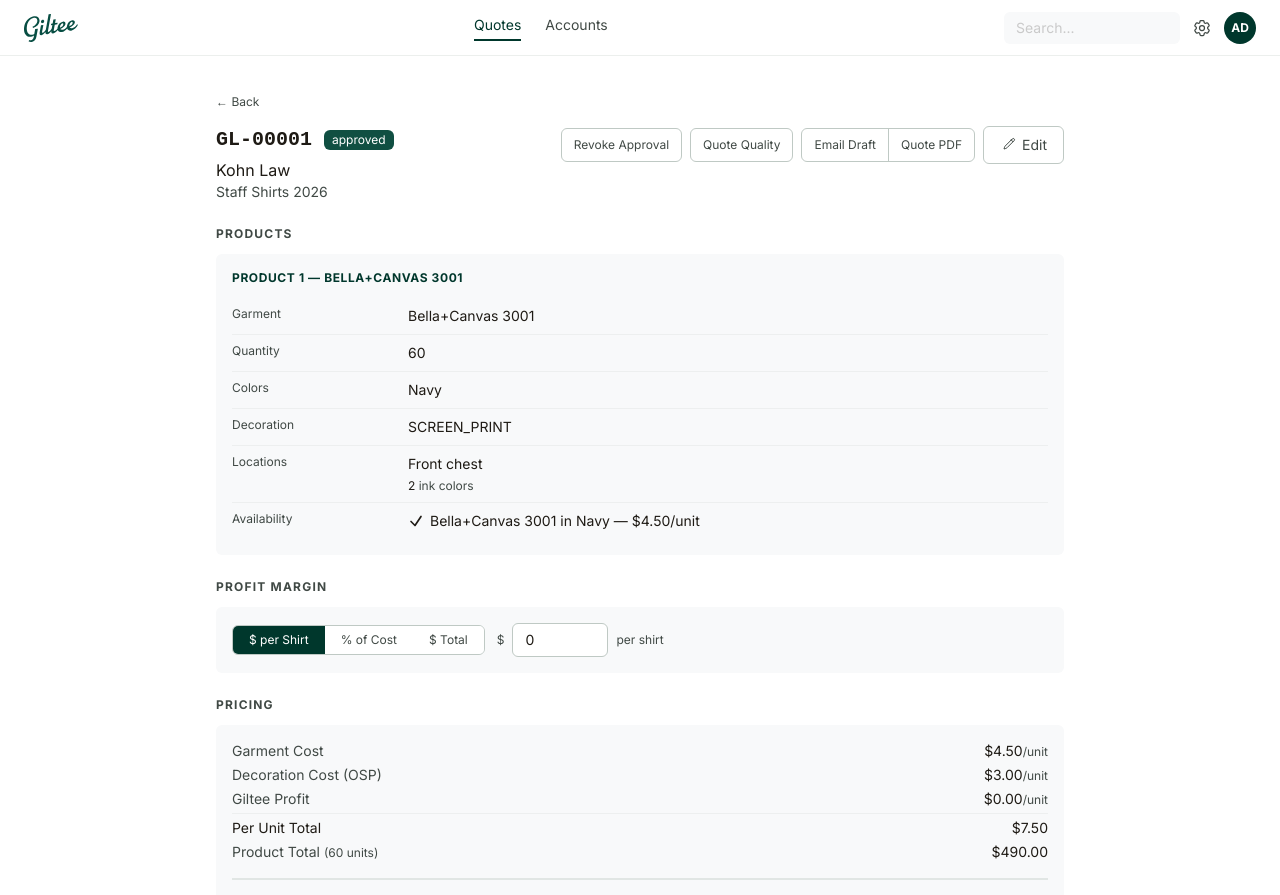
Test case: ViewQuote — approval buttons › clicking Revoke Approval opens the confirm modal
Step 1. Click the button "Revoke Approval" → click(621, 145), box [561,128,682,162]
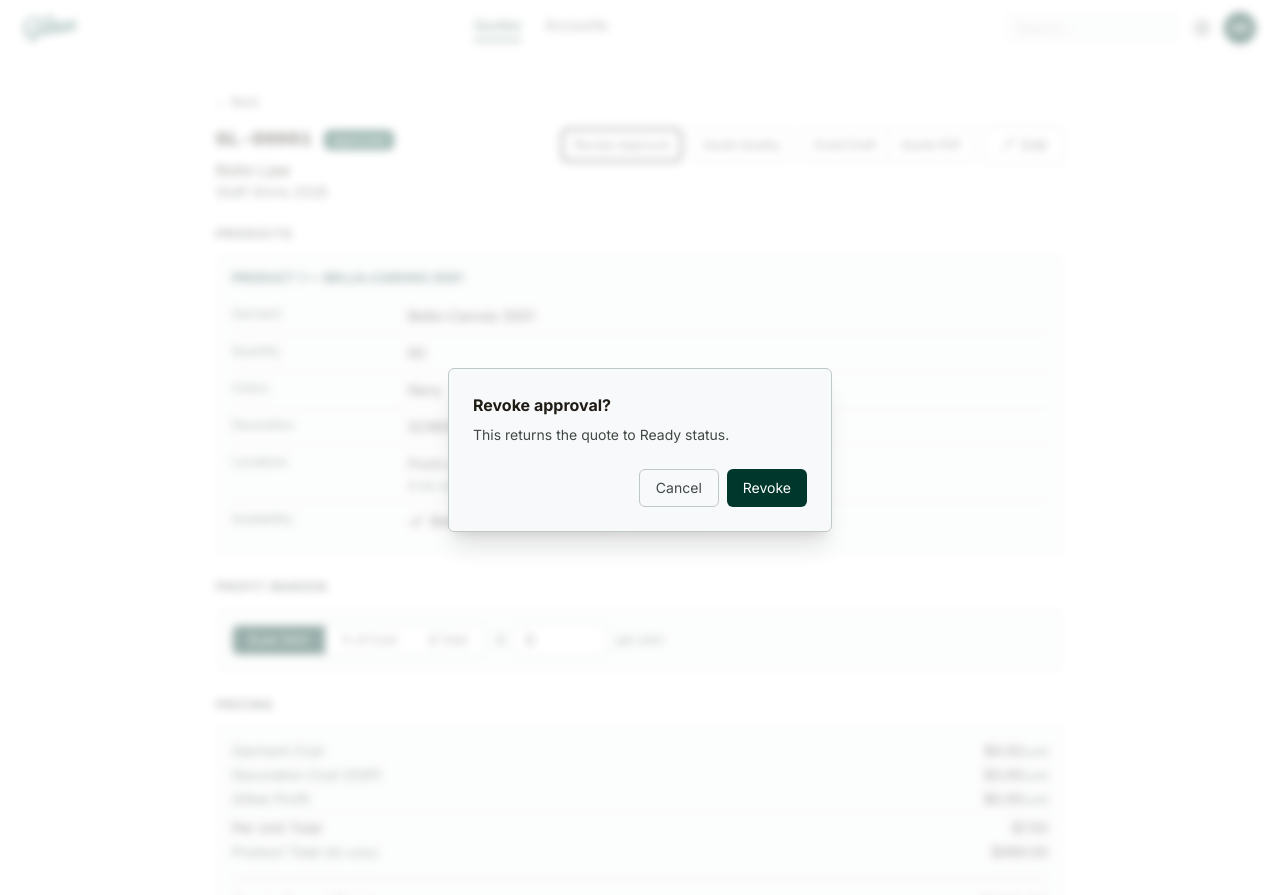
Expected: the heading "Revoke approval?" is shown, [473,395,611,415]
